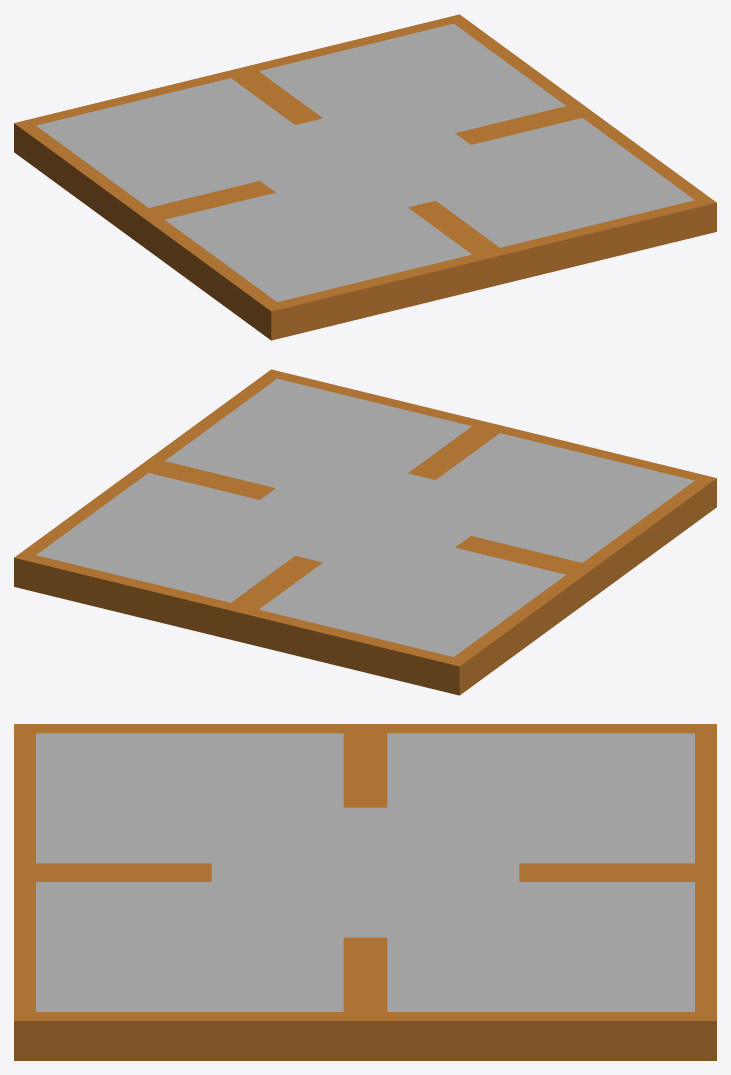
Rendered from Tile1.obj.
3 renders of one model, top to bottom at view 1: azimuth 30°, elevation 25°; view 2: azimuth 150°, elevation 25°; view 3: azimuth 270°, elevation 25°, orthographic. The views are drawn at different scales.
Bounding box in the file's own units: 32 × 2 × 32.
1 material, 1 textured.
